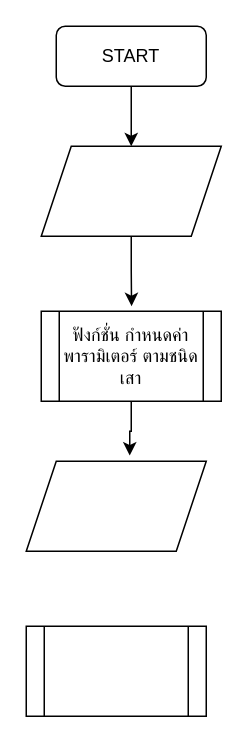
Some shapes in this 248 by 743 pixel diagram are drawn without their labels. Here are the shapes that lost their labels. From the top down, the centre of each, then its label:
point (130, 190): รับค่าชนิดของเสา Type
point (115, 505): รับค่าระยะห่าง X ความสูง Y ขนาดวัตถุ Size
